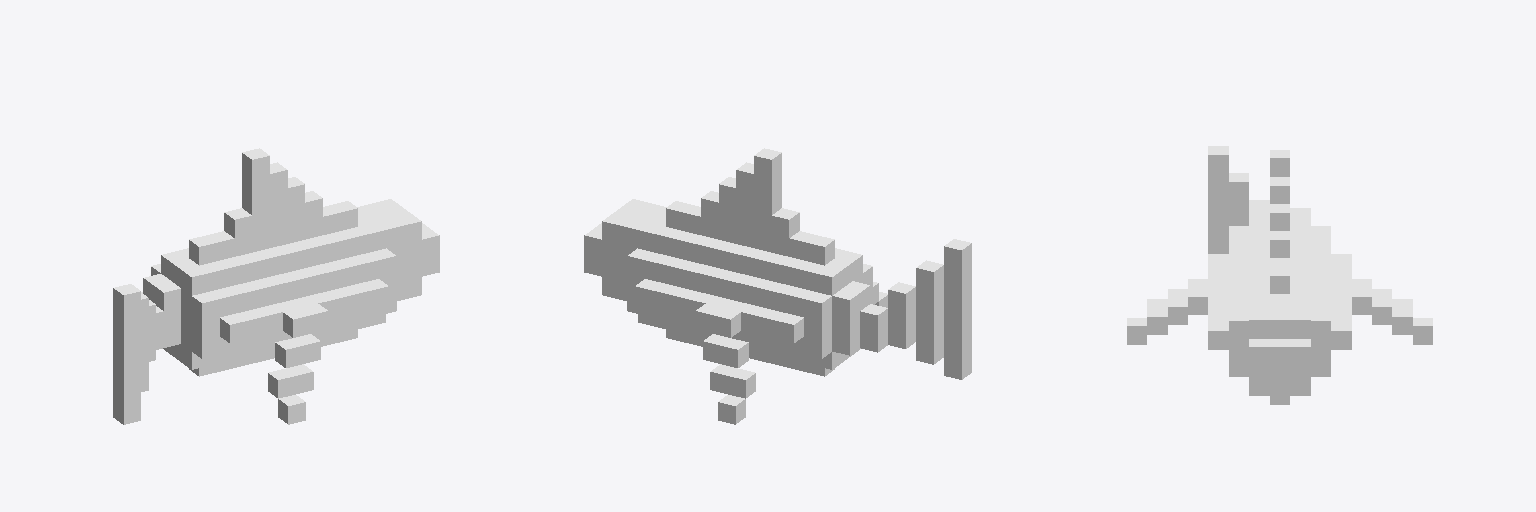
The model's file is tibu7vox.obj.
3 views of the same model, side by side, from view 1: azimuth 30°, elevation 25°; view 2: azimuth 150°, elevation 25°; view 3: azimuth 270°, elevation 25° (orthographic).
Visible parts, largest first — view 1: object 1; view 2: object 1; view 3: object 1.
Boxes of the visible parts, x1,y1,x2,y2 form: object 1: [113, 148, 439, 424]; object 1: [584, 148, 971, 424]; object 1: [1127, 146, 1432, 404].
Size of the model in its own units: 1.9 by 1.1 by 1.5.